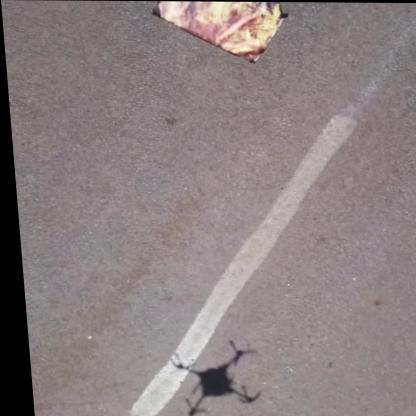fire-poster: (149, 1, 293, 64)
